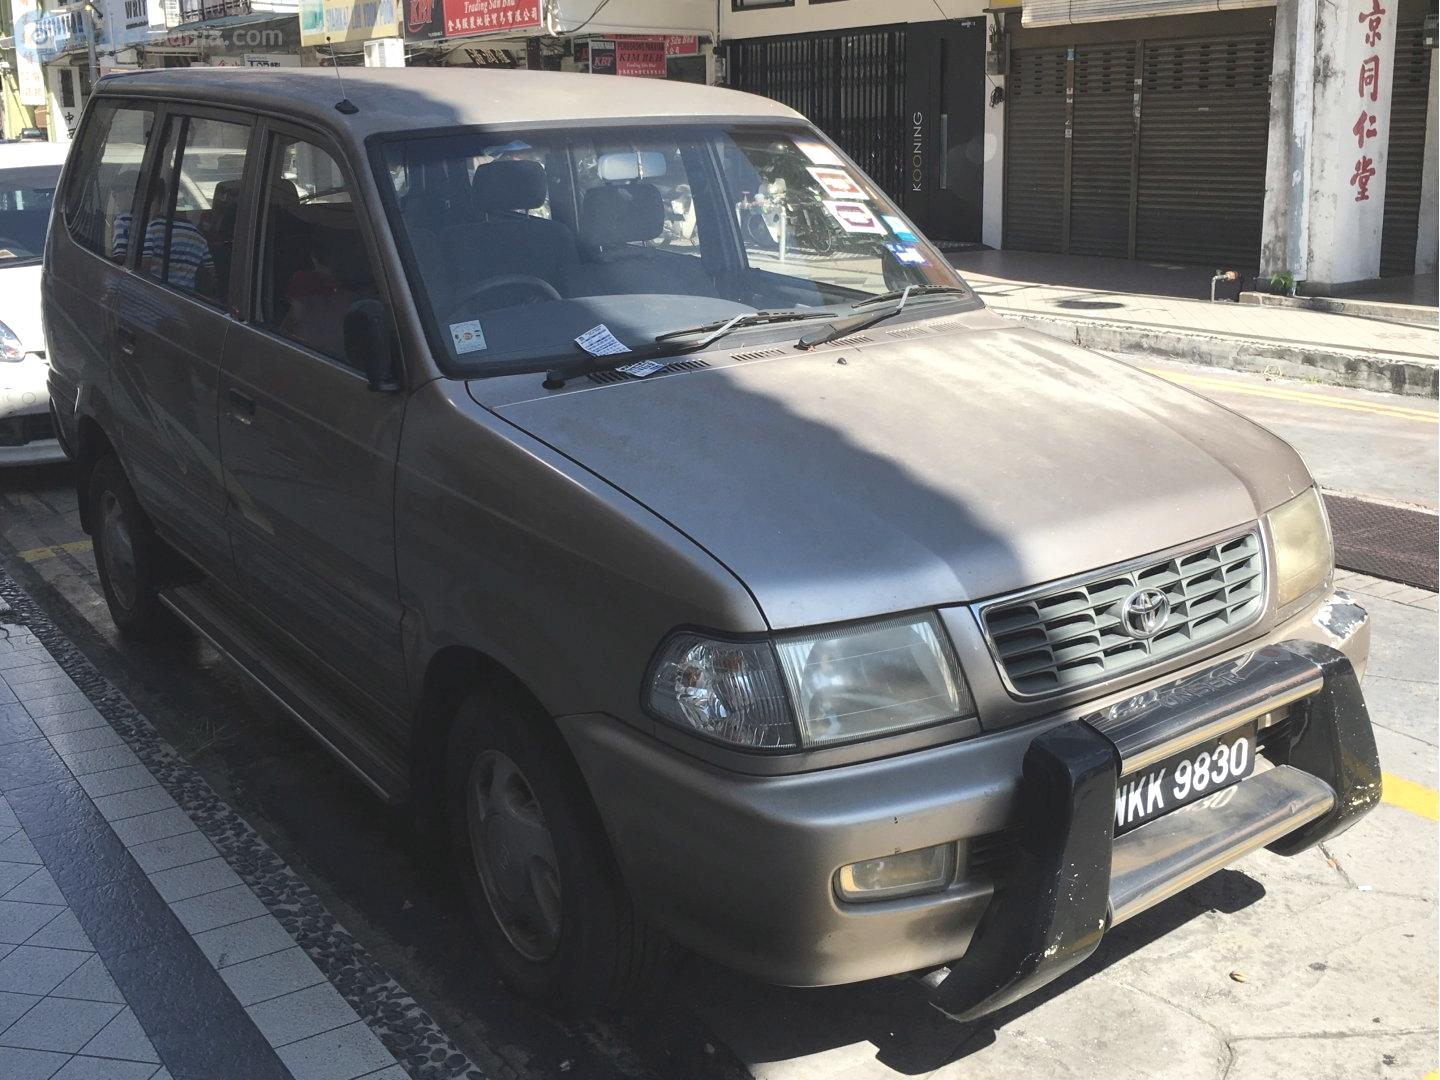License Plate: (1112, 723, 1259, 838)
